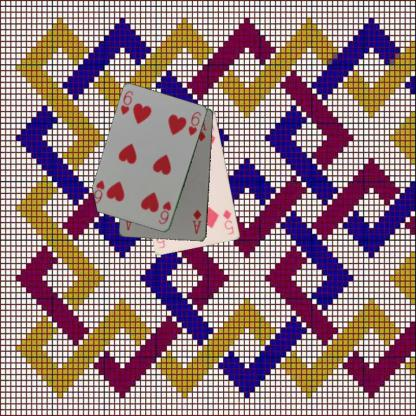5d: (220, 207, 235, 236)
6h: (156, 199, 173, 226), (118, 89, 134, 116)
Ad: (190, 207, 203, 235)
